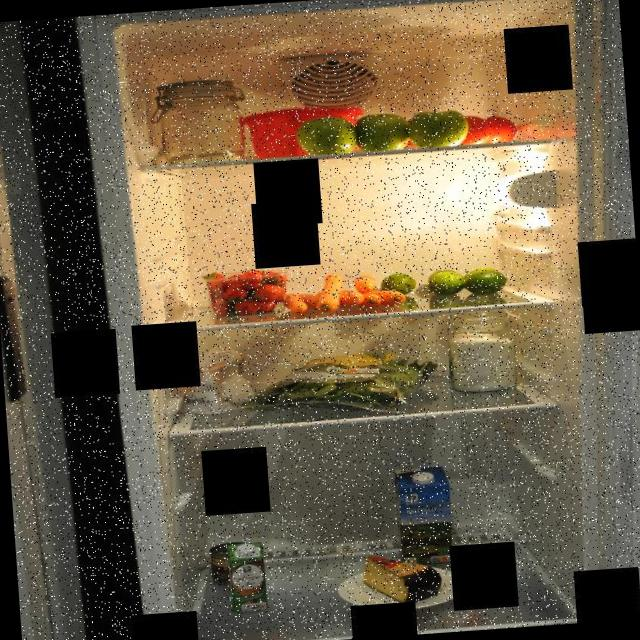Leche: (391, 462, 456, 570)
Mantequilla: (239, 101, 367, 160)
Manzana: (290, 103, 472, 159)
Queso: (358, 547, 446, 611)
Tomate: (457, 109, 521, 147)
Zanahoria: (282, 266, 410, 320)
corn: (208, 540, 258, 586)
flour: (149, 68, 255, 169), (178, 339, 261, 419)
heavy_cream: (226, 540, 268, 612)
spinach: (238, 346, 440, 424)
strawberries: (199, 265, 293, 319)
sugar: (445, 304, 519, 396)
